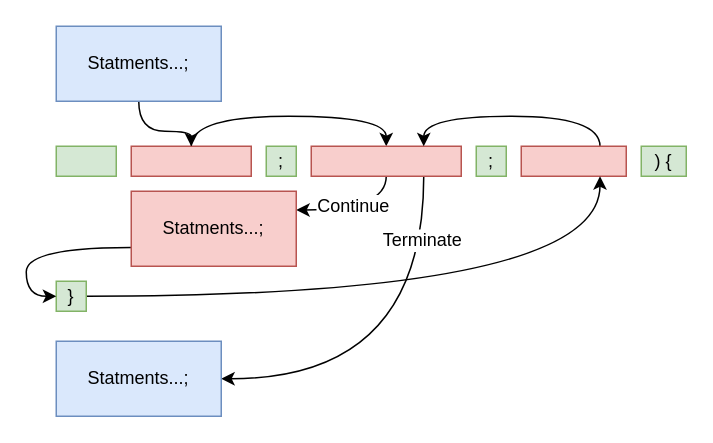
The diagram is 713 pixels wide and 443 high, and some of its shapes have lost their labels. Here are the shapes that lost their labels. From the top down, the centre of each, then its label:
At [85,160]: "for (".
At [190,160]: "initialization".
At [385,160]: "Loop-conditions".
At [573,160]: "Modifiers".
